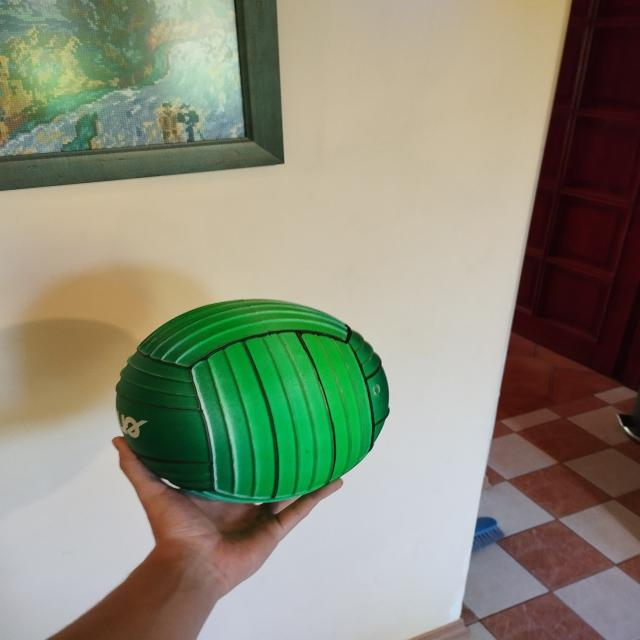zielona: (115, 299, 390, 503)
